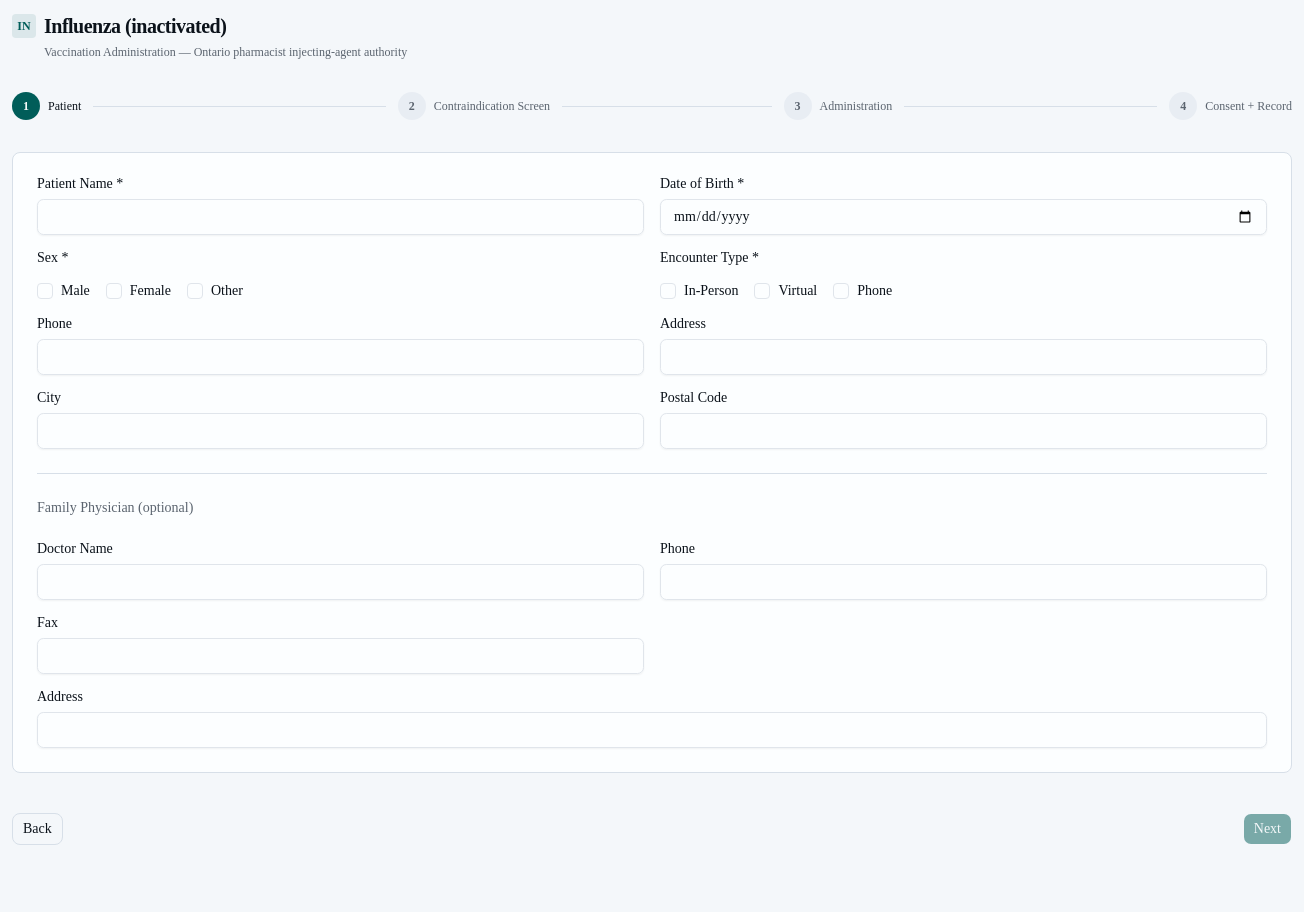
Test: VaccinationWizard gating › disables Next at step 0 until name + dob + In-Person encounter are set
The image size is (1304, 912).
Check: the button "Next" is disabled, box [1243,813,1292,845]
In the field labelled "Patient Name *": (340, 217) [37,199,644,235], type "Jane Doe"
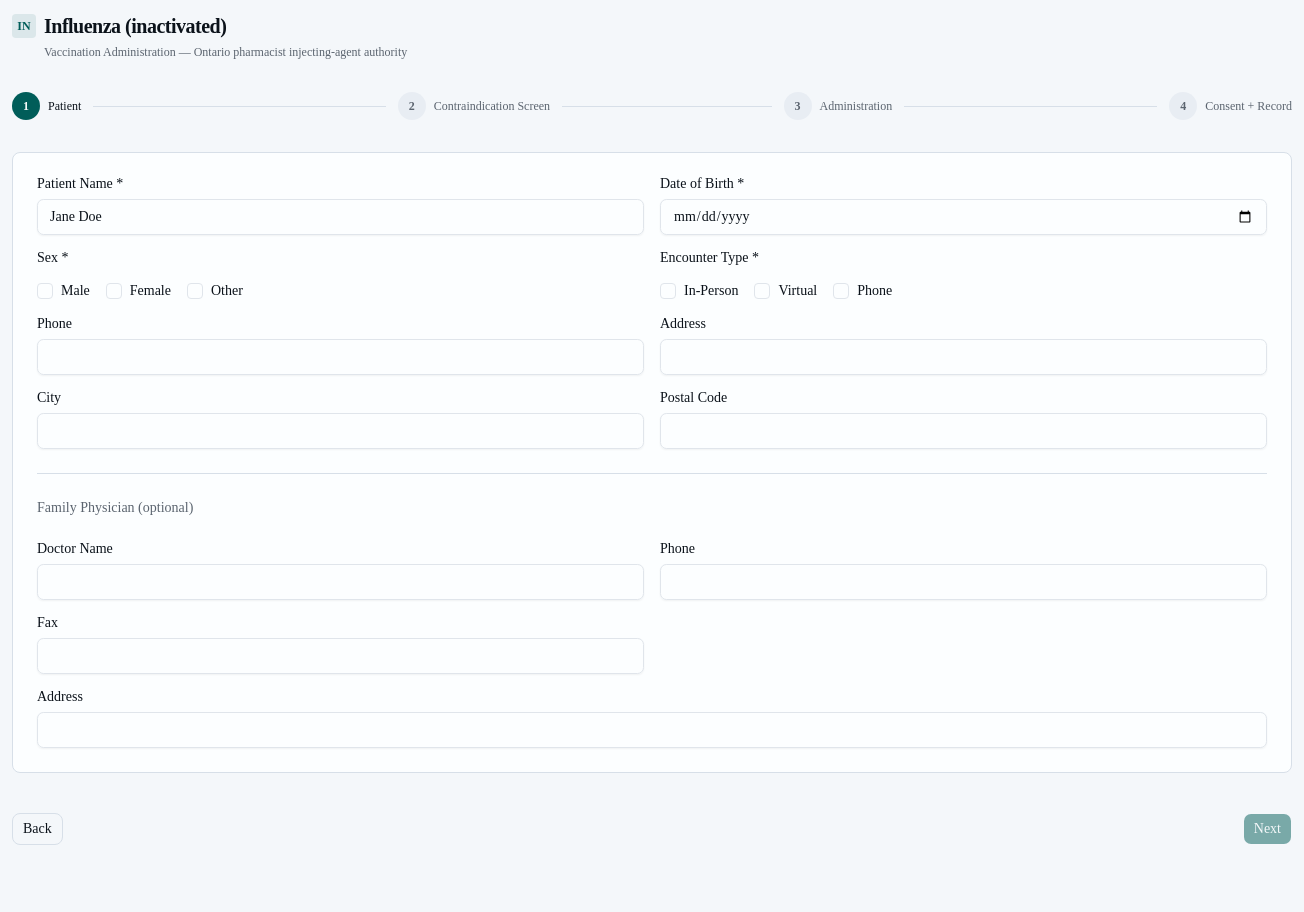
In the date field labelled "Date of Birth *": (964, 217) [660,199,1267,235], type "1990-01-01"
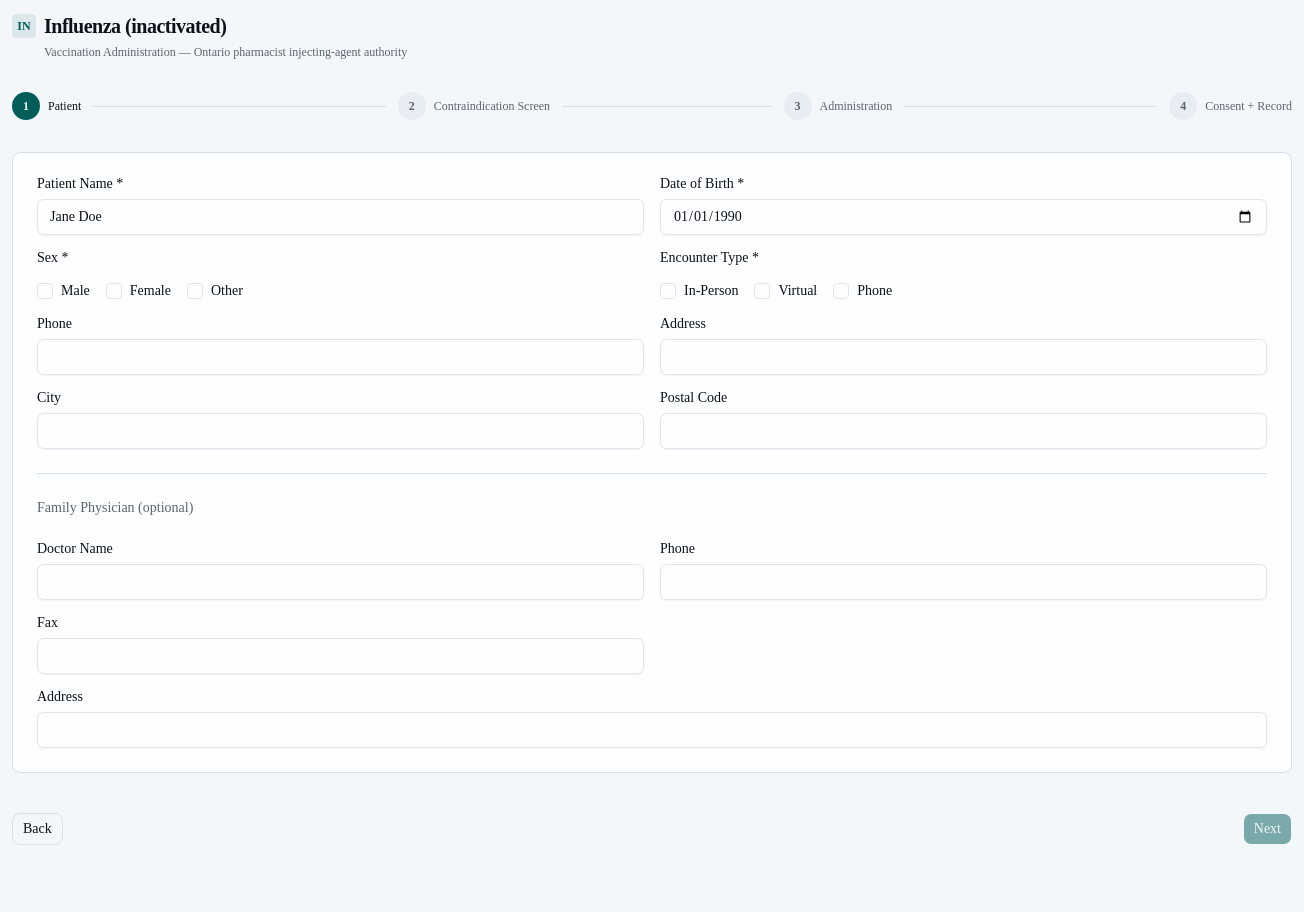
Check: the button "Next" is disabled, box [1243,813,1292,845]
Click the checkbox named "In-Person" next to "In-Person": (668, 291) [660,283,676,299]
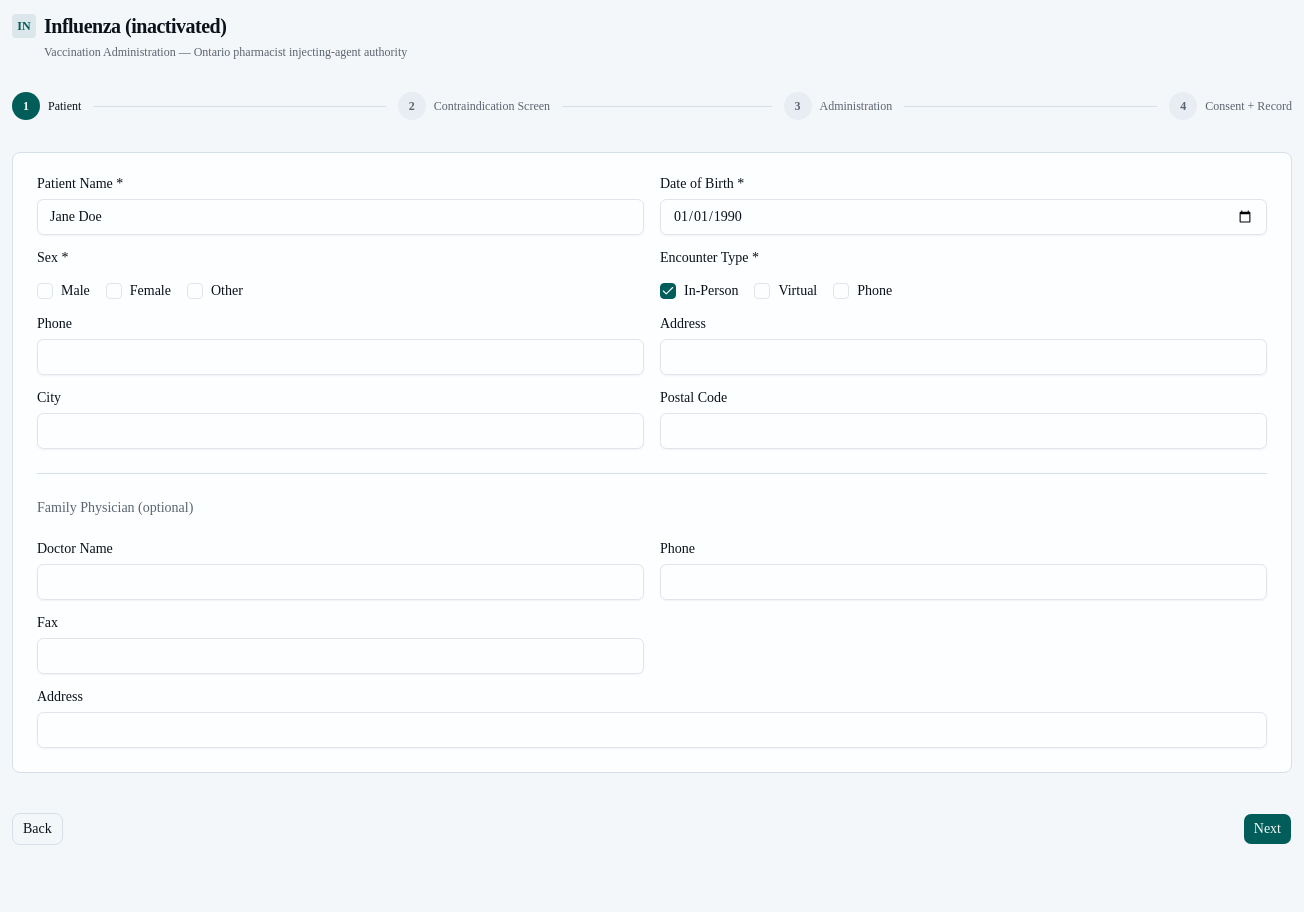
Check: the button "Next" is enabled, box [1243,813,1292,845]
